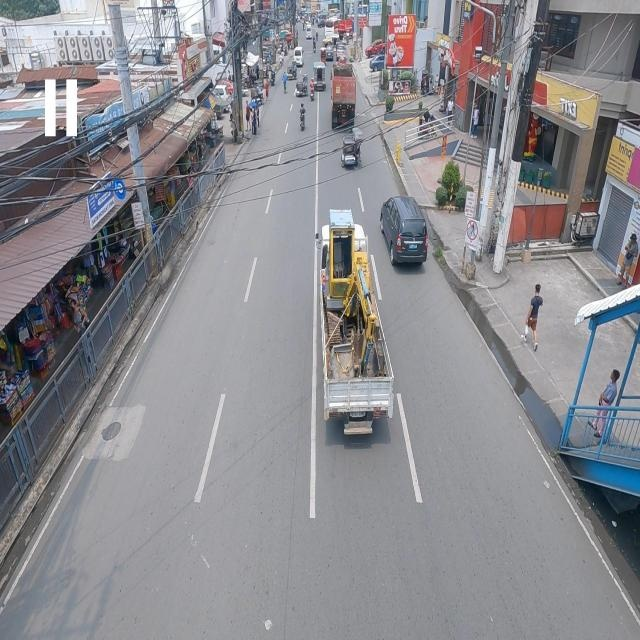Motorcycle: (298, 101, 307, 130)
Truck: (316, 224, 393, 443), (330, 63, 356, 134)
